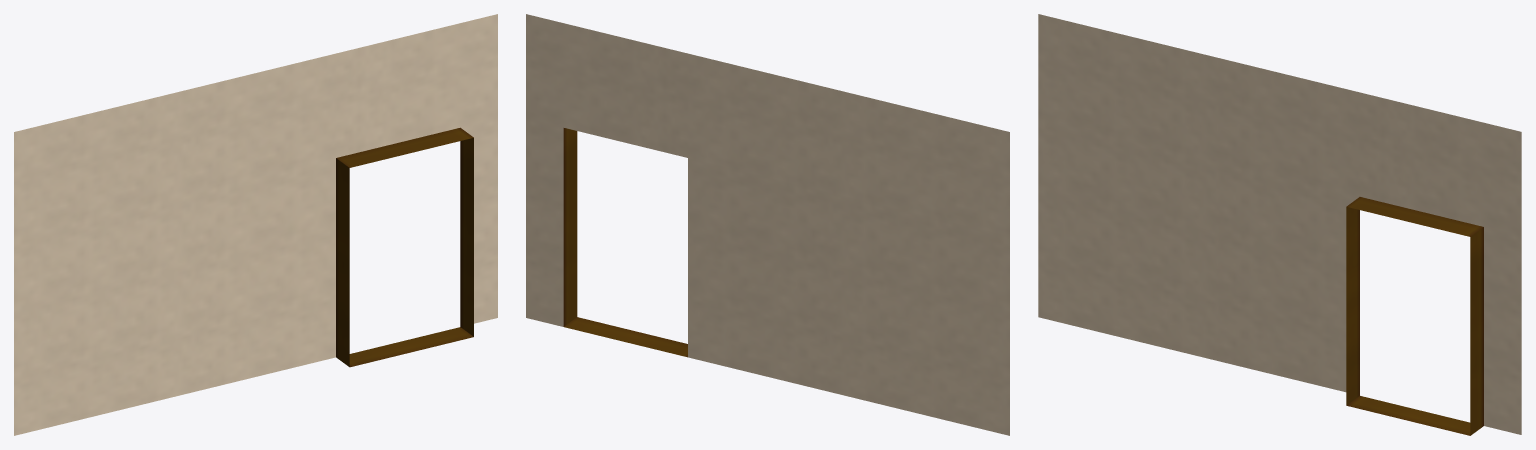
File: roomparts3.fbx
3 views of the same model, side by side, from view 1: azimuth 30°, elevation 25°; view 2: azimuth 150°, elevation 25°; view 3: azimuth 330°, elevation 25° (orthographic).
Parts seen in each view (by area): view 1: polySurface40; view 2: polySurface40; view 3: polySurface40.
Part boxes in pixels (bbox=[...]): polySurface40: bbox=[14, 14, 497, 435]; polySurface40: bbox=[526, 14, 1009, 435]; polySurface40: bbox=[1038, 14, 1521, 435].
Size of the model in its own units: 25 by 15 by 1.25.
